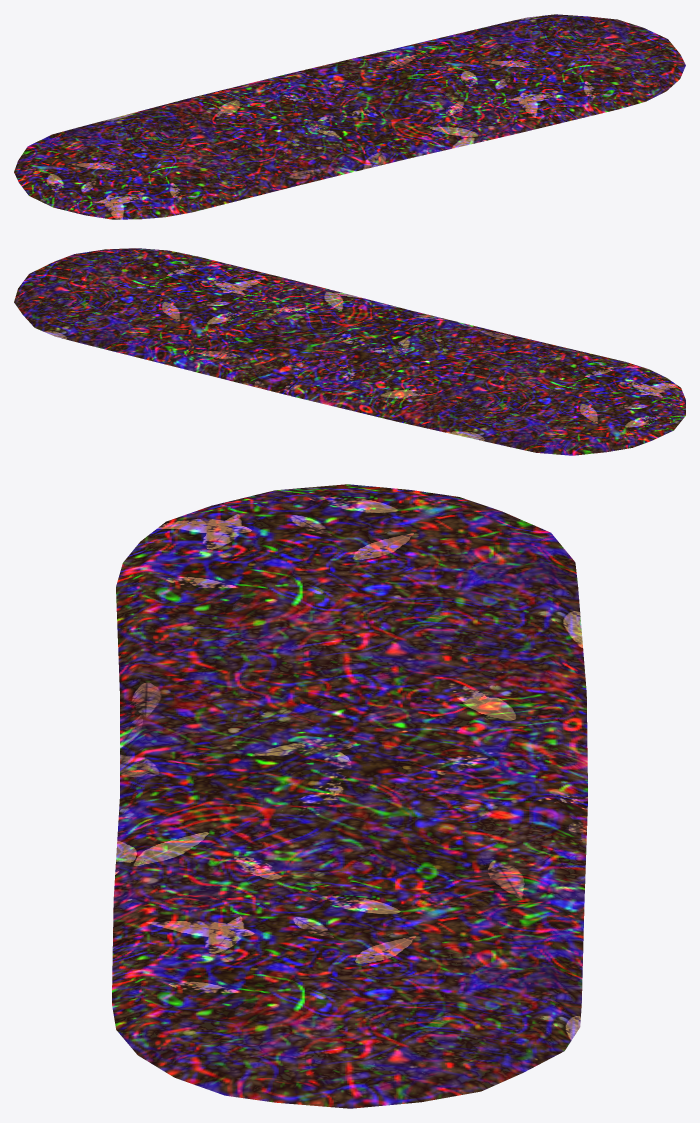
The model's file is flower_bed_long_SM.fbx.
3 views of the same model, one above another, from view 1: azimuth 30°, elevation 25°; view 2: azimuth 150°, elevation 25°; view 3: azimuth 270°, elevation 25° (orthographic). The views are drawn at different scales.
Visible parts, largest first — view 1: flower_bed_long_SM_LOD0; view 2: flower_bed_long_SM_LOD0; view 3: flower_bed_long_SM_LOD0.
Part boxes in pixels (<box>): flower_bed_long_SM_LOD0: <box>14,14,685,219</box>; flower_bed_long_SM_LOD0: <box>14,248,685,455</box>; flower_bed_long_SM_LOD0: <box>112,484,587,1108</box>.
Bounding box in the file's own units: 1638 × 528 × 15.54.
1 material, 1 textured.
